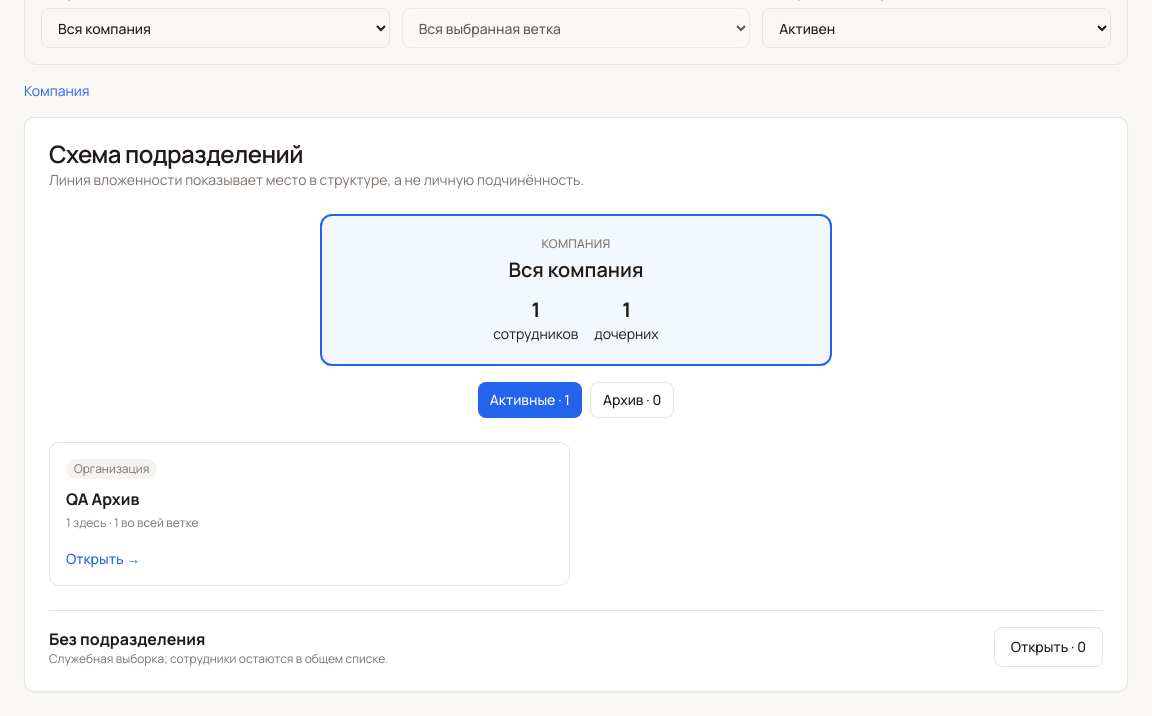
staff workspace page integration › archives through a cancellable page dialog, without a native confirm or an implicit write
(page scrolled)
Click the button with aria-label "Открыть подразделение: QA Архив".
click(112, 469)  # box [49,442,570,586]
(page scrolled)
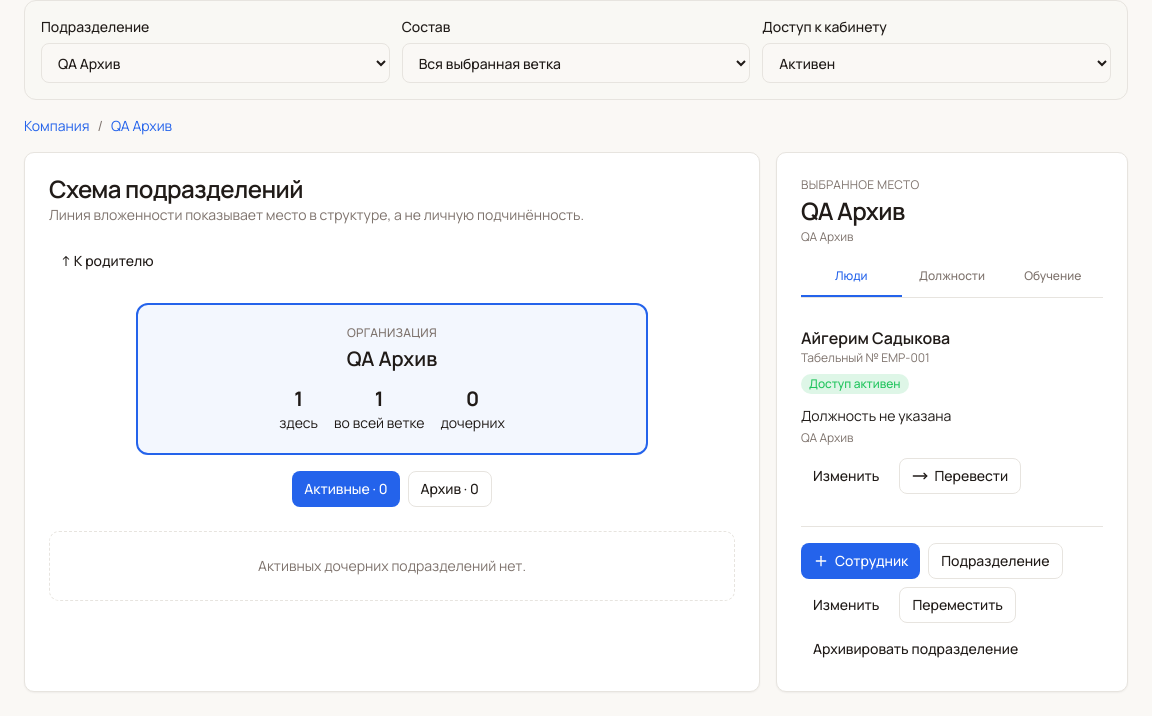
Click the button "Архивировать подразделение".
click(916, 649)  # box [801,631,1030,667]
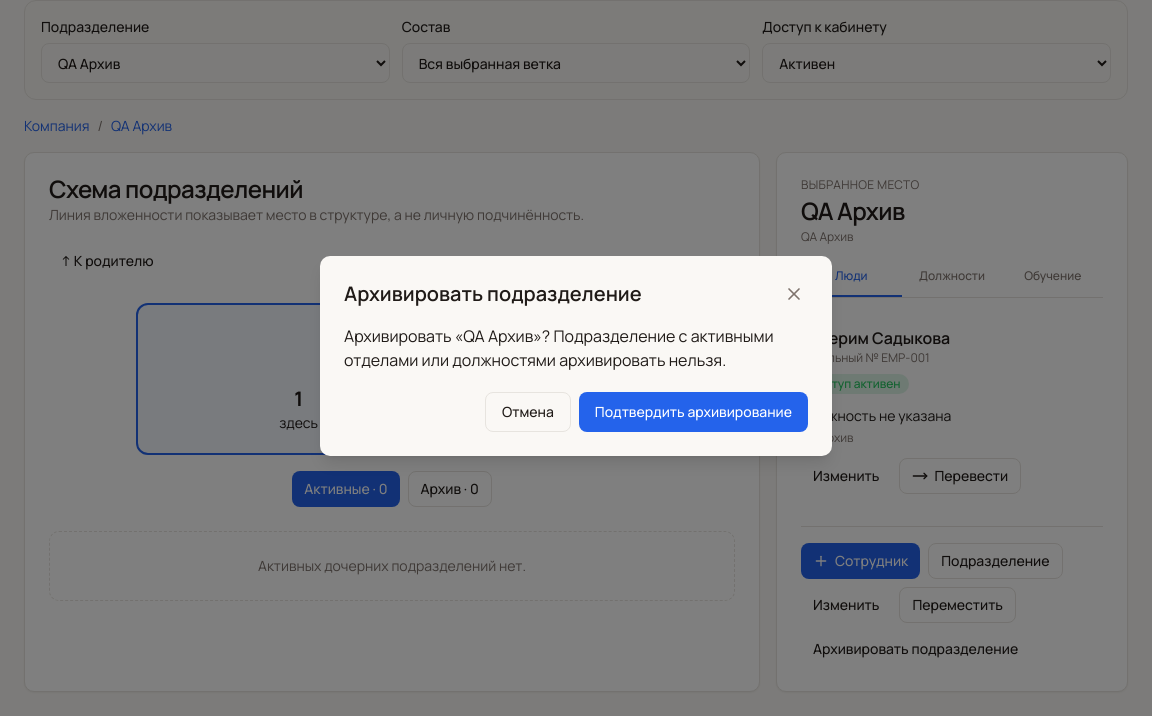
Check: the text "QA Архив" is shown, box [344,325,774,371]
Click the button "Отмена".
click(528, 412)  # box [485,392,571,432]
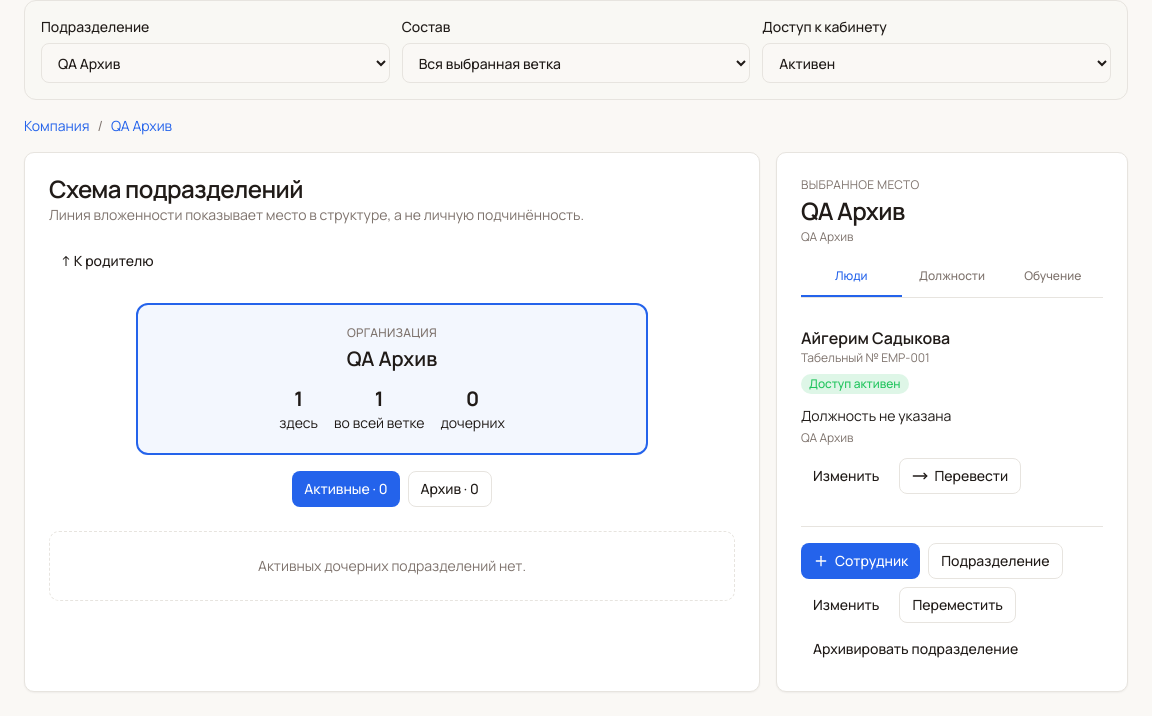
Click the button "Архивировать подразделение".
click(916, 649)  # box [801,631,1030,667]
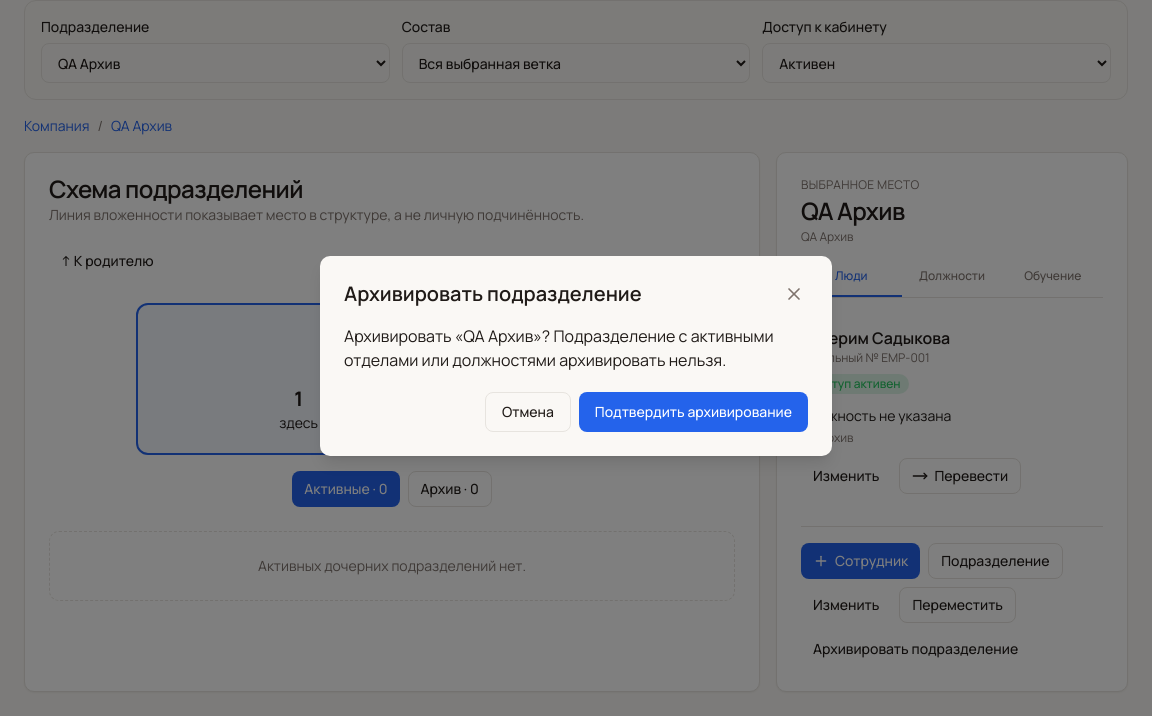
Click the button "Подтвердить архивирование".
click(693, 412)  # box [579,392,808,432]
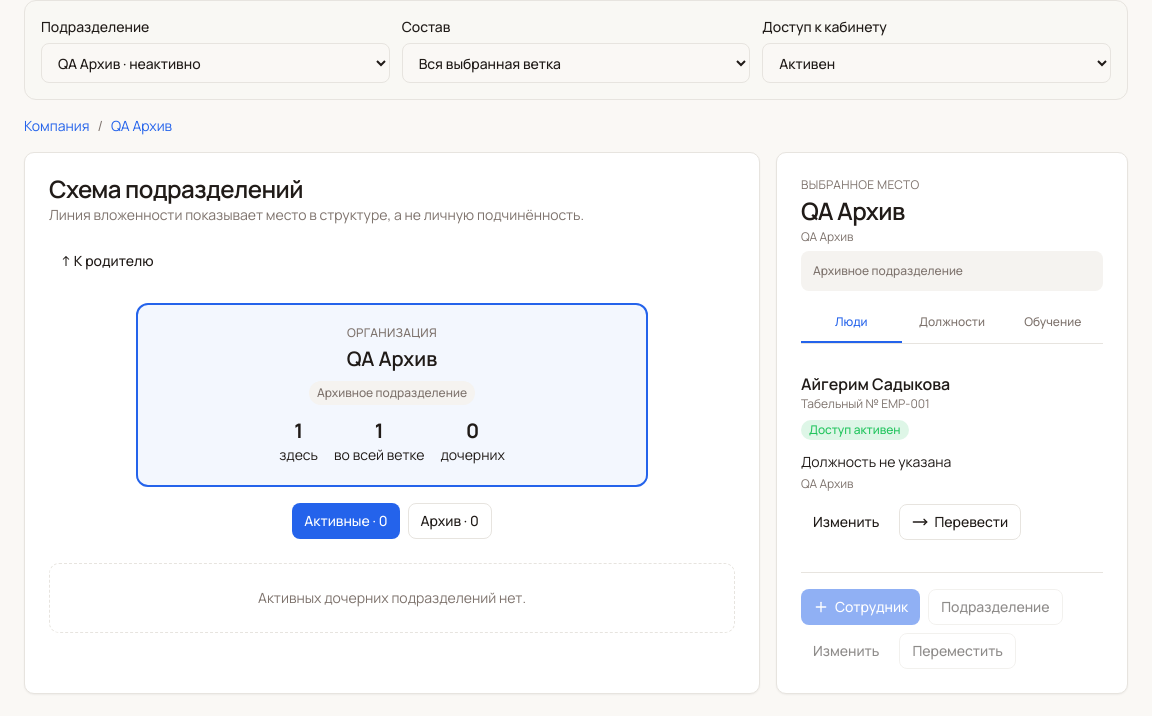
Check: the button "Архивировать подразделение" is gone
Check: the text "Архивное подразделение" below "Организация" is shown, box [317,384,467,401]
